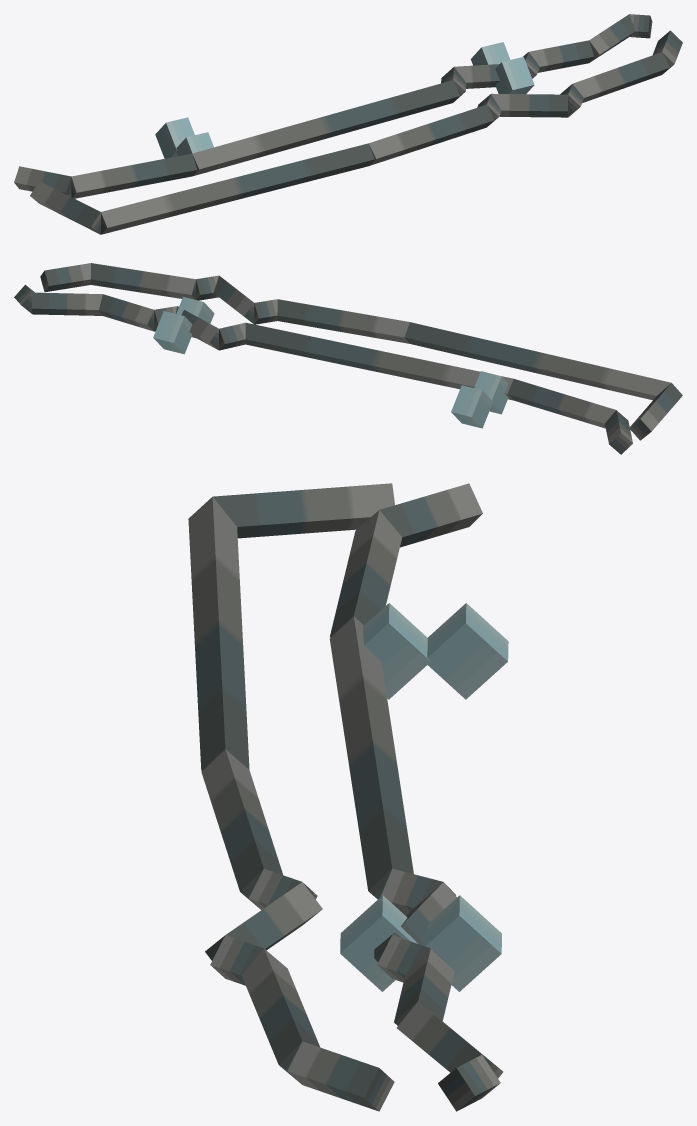
File: pz_native_electrical_208.obj
The picture shows the model from 3 angles, top to bottom: view 1: azimuth 30°, elevation 25°; view 2: azimuth 150°, elevation 25°; view 3: azimuth 270°, elevation 25°; orthographic projection. The views are drawn at different scales.
Parts seen in each view (by area): view 1: conduit, conduit_end; view 2: conduit, conduit_end; view 3: conduit, conduit_end.
Boxes of the visible parts, <box> form: conduit: <box>14,14,682,234</box>; conduit_end: <box>66,16,674,234</box>; conduit: <box>14,263,682,443</box>; conduit_end: <box>21,271,651,454</box>; conduit: <box>188,483,508,1111</box>; conduit_end: <box>201,618,507,1111</box>.
Bounding box in the file's own units: 0.7086 × 0.042 × 0.1591.
Materials: 1 (1 with a texture image).
